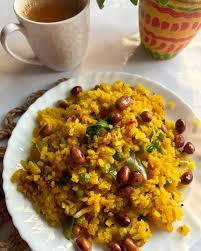poha: (11, 75, 201, 251)
